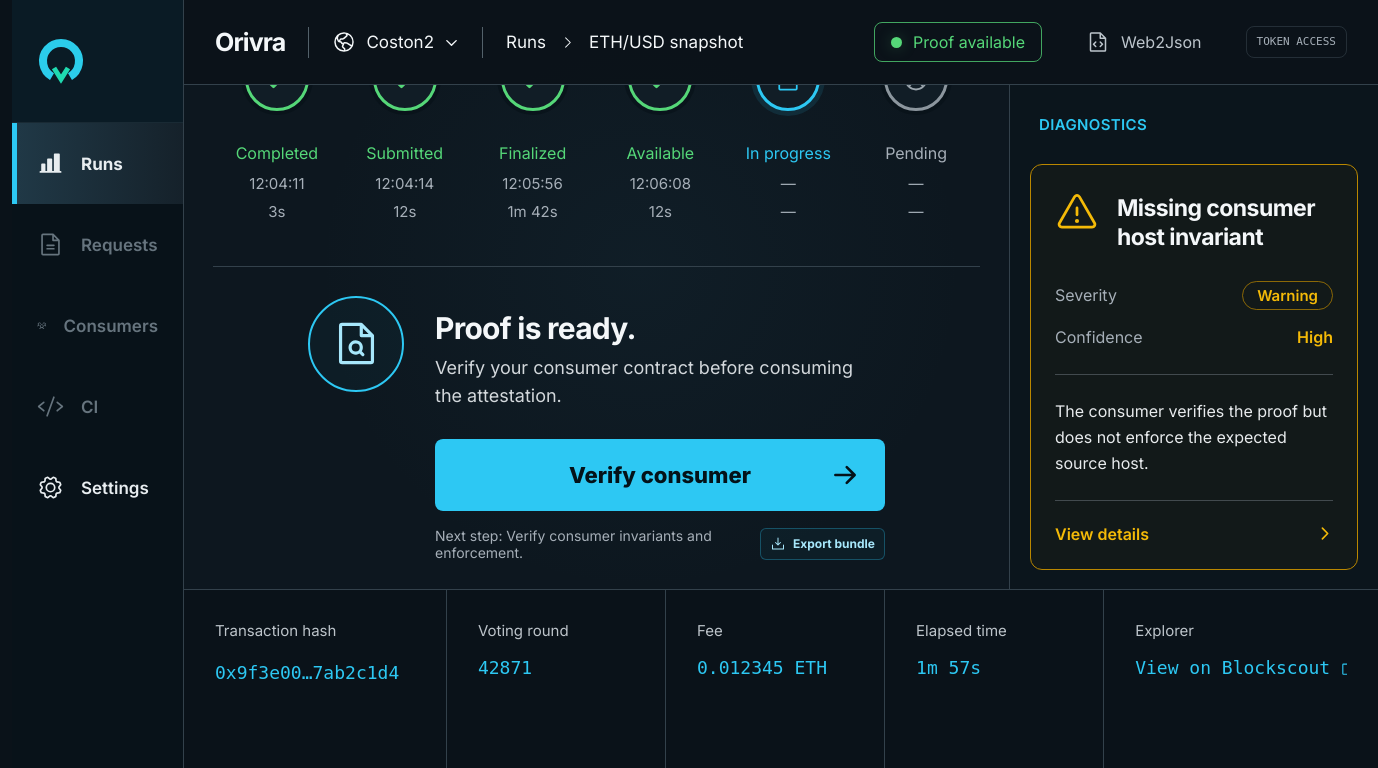
Test: Run Cockpit bundle and session hardening › redacts opaque tokens from bundle errors
This screenshot has width=1378, height=768.
(page scrolled)
Click the button "Export bundle": click(822, 544) 760,528 -> 885,560
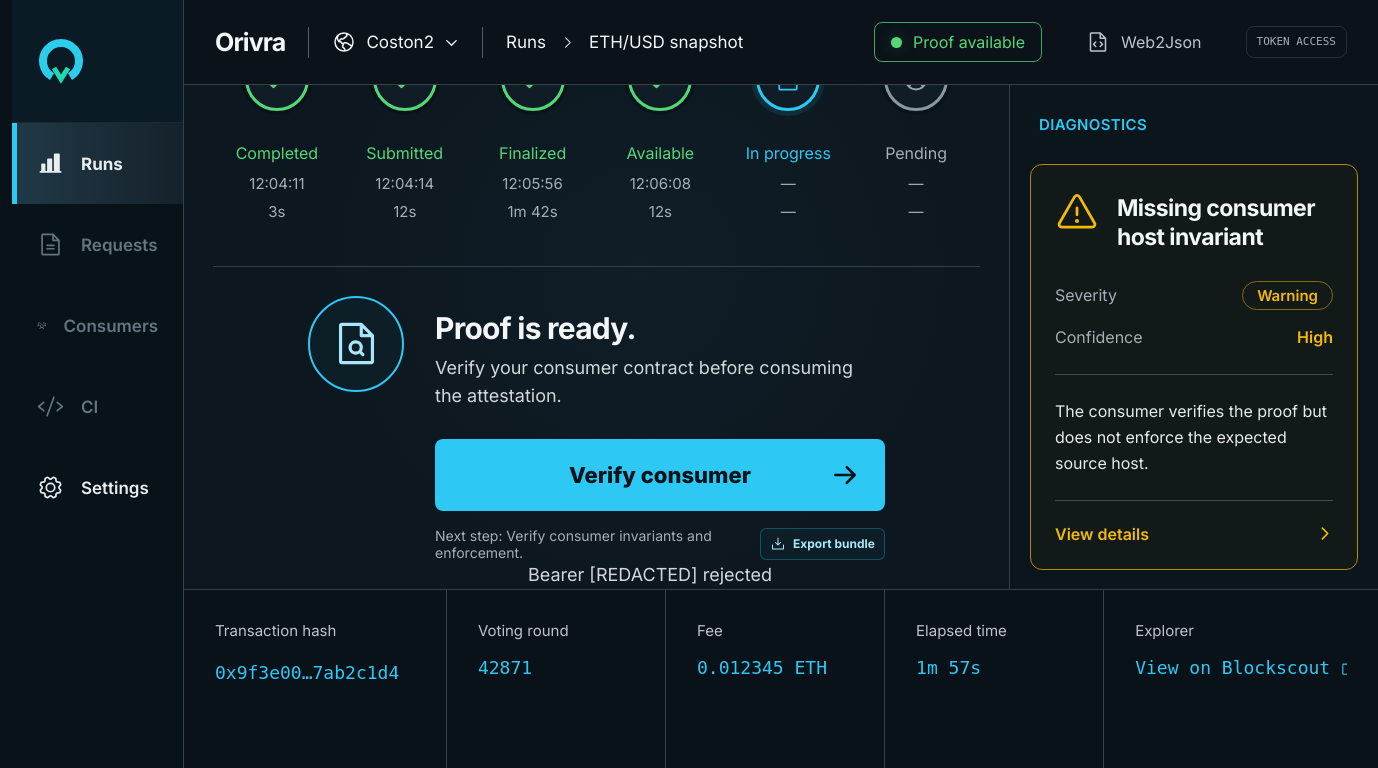
Expected: the message shows "[REDACTED]", 528,564 -> 772,585
